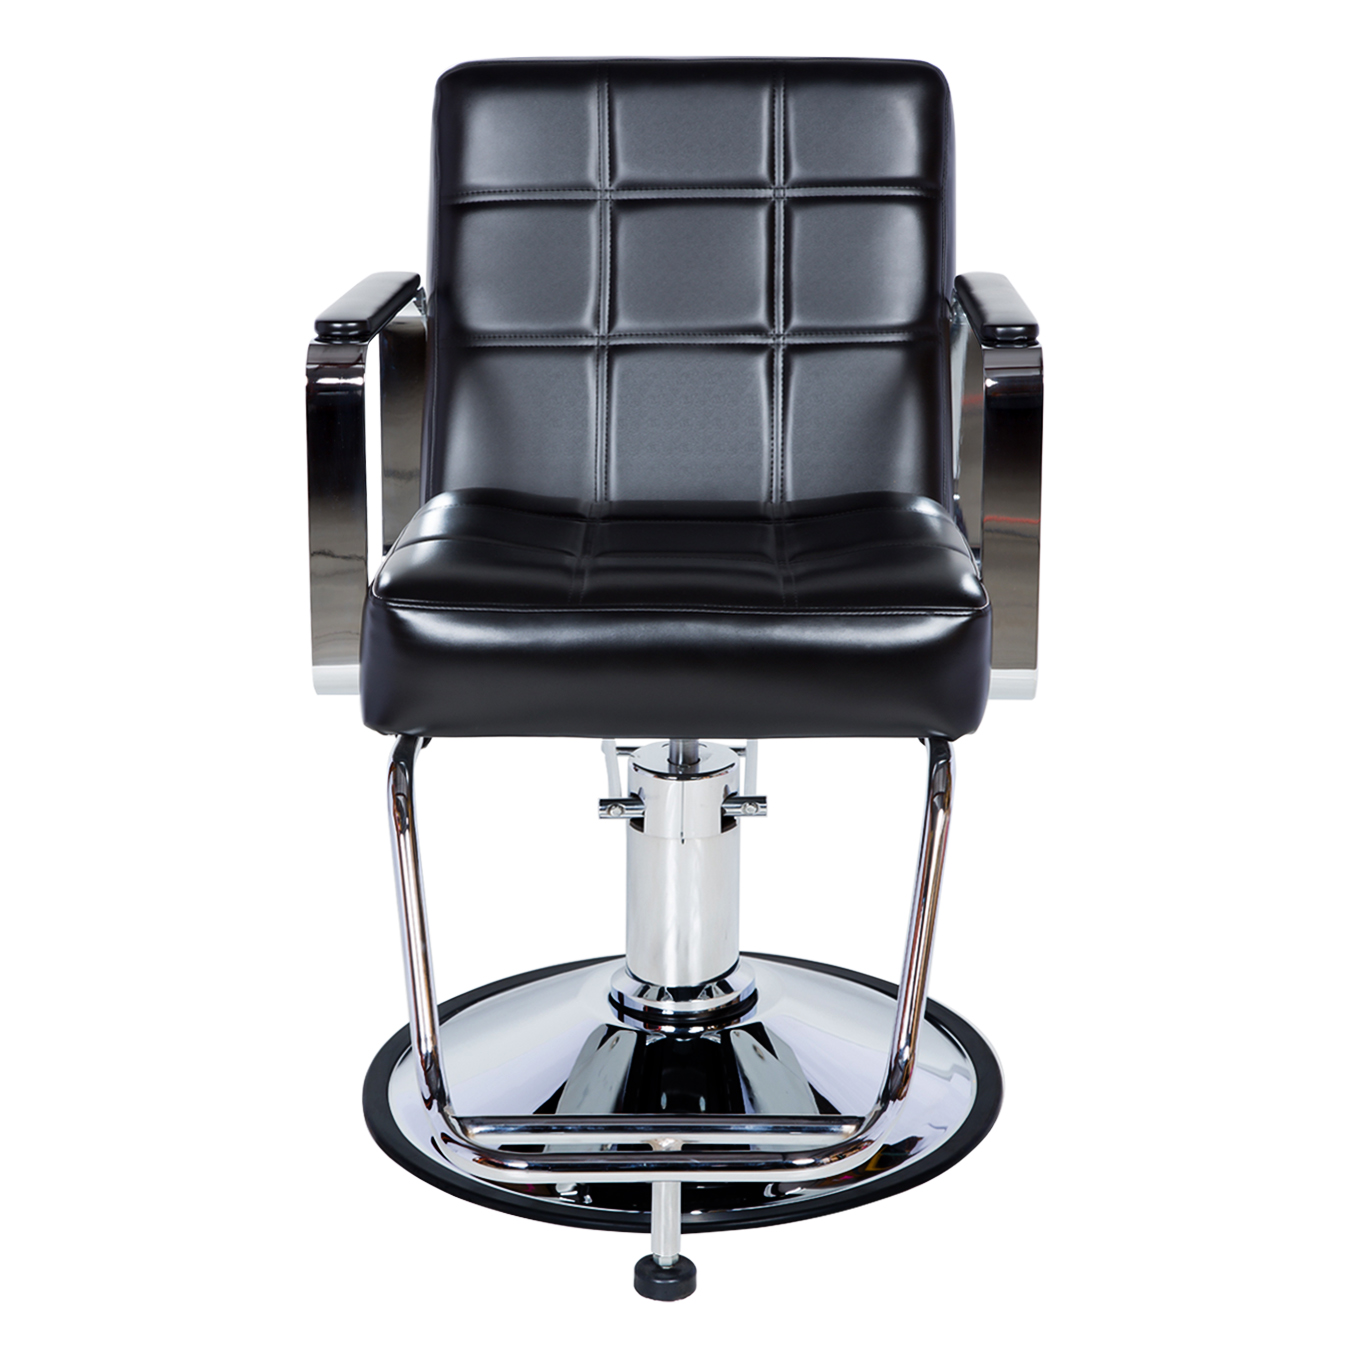chairs: (305, 58, 1050, 1301)
